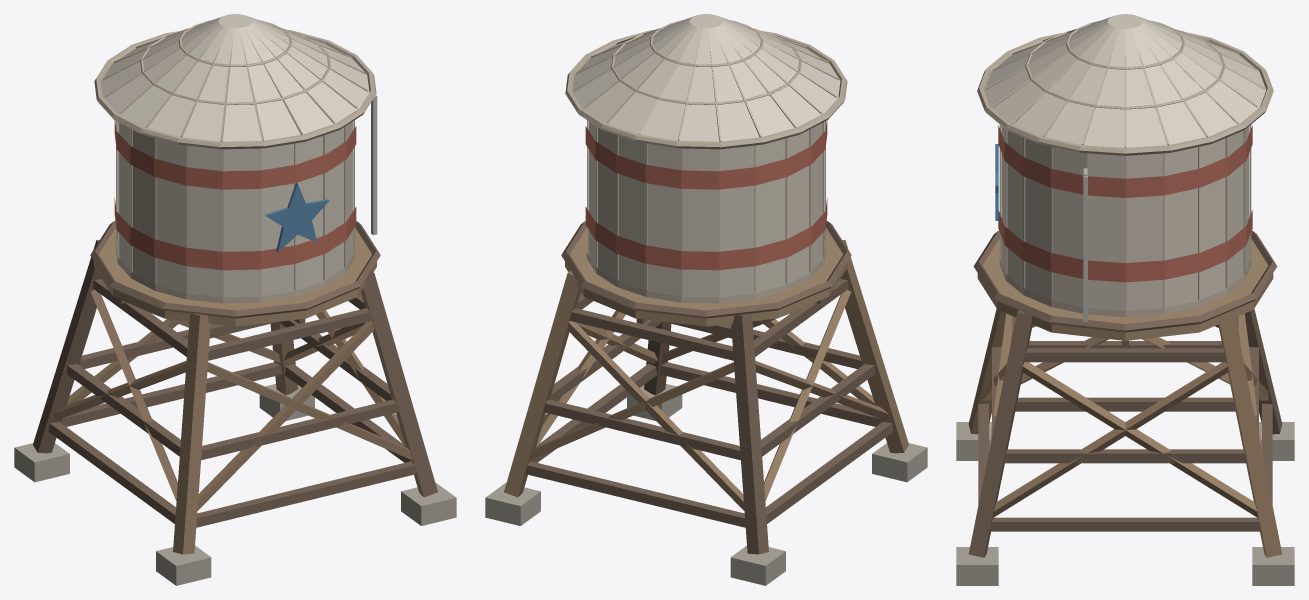
File: water_tower.glb
3 views of the same model, side by side, from view 1: azimuth 30°, elevation 25°; view 2: azimuth 150°, elevation 25°; view 3: azimuth 270°, elevation 25° (orthographic). The views are drawn at different scales.
Visible parts, largest first — view 1: WaterTower/Tank/Tank_Body, WaterTower/Roof/Faceted_Conical_Roof, WaterTower/Platform/Octagonal_Platform, WaterTower/SupportFrame/Main_Splayed_Leg_1, WaterTower/Bands/Upper_Red_Band, WaterTower/Bands/Lower_Red_Band, WaterTower/SupportFrame/Main_Splayed_Leg_2, WaterTower/Roof/Roof_Overhang_Rim, WaterTower/SupportFrame/Main_Splayed_Leg_4, WaterTower/Platform/Platform_Perimeter_Beam, WaterTower/SupportFrame/Lower_Front_Horizontal_Beam, WaterTower/SupportFrame/Middle_Front_Horizontal_Beam (+25 smaller); view 2: WaterTower/Tank/Tank_Body, WaterTower/Roof/Faceted_Conical_Roof, WaterTower/Platform/Octagonal_Platform, WaterTower/SupportFrame/Main_Splayed_Leg_4, WaterTower/Bands/Lower_Red_Band, WaterTower/Bands/Upper_Red_Band, WaterTower/SupportFrame/Main_Splayed_Leg_3, WaterTower/Roof/Roof_Overhang_Rim, WaterTower/SupportFrame/Main_Splayed_Leg_1, WaterTower/Platform/Platform_Perimeter_Beam, WaterTower/SupportFrame/Lower_Back_Horizontal_Beam, WaterTower/SupportFrame/Middle_Back_Horizontal_Beam (+23 smaller); view 3: WaterTower/Tank/Tank_Body, WaterTower/Roof/Faceted_Conical_Roof, WaterTower/Platform/Octagonal_Platform, WaterTower/Bands/Upper_Red_Band, WaterTower/Bands/Lower_Red_Band, WaterTower/SupportFrame/Main_Splayed_Leg_2, WaterTower/SupportFrame/Main_Splayed_Leg_3, WaterTower/SupportFrame/Lower_Right_Horizontal_Beam, WaterTower/Roof/Roof_Overhang_Rim, WaterTower/Platform/Platform_Perimeter_Beam, WaterTower/SupportFrame/Middle_Right_Horizontal_Beam, WaterTower/SupportFrame/Right_Brace_A (+18 smaller).
Boxes of the visible parts, x1=… form: WaterTower/Tank/Tank_Body: x1=118, y1=121, x2=353, y2=297; WaterTower/Roof/Faceted_Conical_Roof: x1=101, y1=14, x2=369, y2=141; WaterTower/Platform/Octagonal_Platform: x1=94, y1=227, x2=376, y2=326; WaterTower/SupportFrame/Main_Splayed_Leg_1: x1=173, y1=313, x2=210, y2=554; WaterTower/Bands/Upper_Red_Band: x1=114, y1=120, x2=356, y2=189; WaterTower/Bands/Lower_Red_Band: x1=114, y1=197, x2=356, y2=270; WaterTower/SupportFrame/Main_Splayed_Leg_2: x1=361, y1=270, x2=437, y2=497; WaterTower/Roof/Roof_Overhang_Rim: x1=94, y1=30, x2=376, y2=149; WaterTower/SupportFrame/Main_Splayed_Leg_4: x1=33, y1=240, x2=101, y2=453; WaterTower/Platform/Platform_Perimeter_Beam: x1=90, y1=221, x2=380, y2=318; WaterTower/SupportFrame/Lower_Front_Horizontal_Beam: x1=196, y1=461, x2=416, y2=527; WaterTower/SupportFrame/Middle_Front_Horizontal_Beam: x1=201, y1=399, x2=398, y2=460; WaterTower/Tank/Tank_Body: x1=588, y1=121, x2=823, y2=297; WaterTower/Roof/Faceted_Conical_Roof: x1=572, y1=14, x2=840, y2=141; WaterTower/Platform/Octagonal_Platform: x1=565, y1=227, x2=847, y2=326; WaterTower/SupportFrame/Main_Splayed_Leg_4: x1=731, y1=313, x2=768, y2=554; WaterTower/Bands/Lower_Red_Band: x1=585, y1=197, x2=827, y2=270; WaterTower/Bands/Upper_Red_Band: x1=585, y1=120, x2=827, y2=189; WaterTower/SupportFrame/Main_Splayed_Leg_3: x1=504, y1=270, x2=580, y2=497; WaterTower/Roof/Roof_Overhang_Rim: x1=565, y1=30, x2=847, y2=149; WaterTower/SupportFrame/Main_Splayed_Leg_1: x1=840, y1=240, x2=908, y2=453; WaterTower/Platform/Platform_Perimeter_Beam: x1=561, y1=221, x2=851, y2=318; WaterTower/SupportFrame/Lower_Back_Horizontal_Beam: x1=525, y1=461, x2=745, y2=527; WaterTower/SupportFrame/Middle_Back_Horizontal_Beam: x1=543, y1=399, x2=740, y2=460; WaterTower/Tank/Tank_Body: x1=1001, y1=126, x2=1249, y2=310; WaterTower/Roof/Faceted_Conical_Roof: x1=984, y1=14, x2=1266, y2=147; WaterTower/Platform/Octagonal_Platform: x1=977, y1=236, x2=1273, y2=340; WaterTower/Bands/Upper_Red_Band: x1=998, y1=125, x2=1252, y2=197; WaterTower/Bands/Lower_Red_Band: x1=998, y1=210, x2=1252, y2=282; WaterTower/SupportFrame/Main_Splayed_Leg_2: x1=968, y1=310, x2=1032, y2=557; WaterTower/SupportFrame/Main_Splayed_Leg_3: x1=1218, y1=310, x2=1282, y2=557; WaterTower/SupportFrame/Lower_Right_Horizontal_Beam: x1=990, y1=517, x2=1260, y2=531; WaterTower/Roof/Roof_Overhang_Rim: x1=977, y1=32, x2=1273, y2=155; WaterTower/Platform/Platform_Perimeter_Beam: x1=973, y1=230, x2=1277, y2=332; WaterTower/SupportFrame/Middle_Right_Horizontal_Beam: x1=1003, y1=449, x2=1247, y2=463; WaterTower/SupportFrame/Right_Brace_A: x1=993, y1=362, x2=1228, y2=517.
Size of the model in its own units: 3.82 by 6.14 by 3.82.
